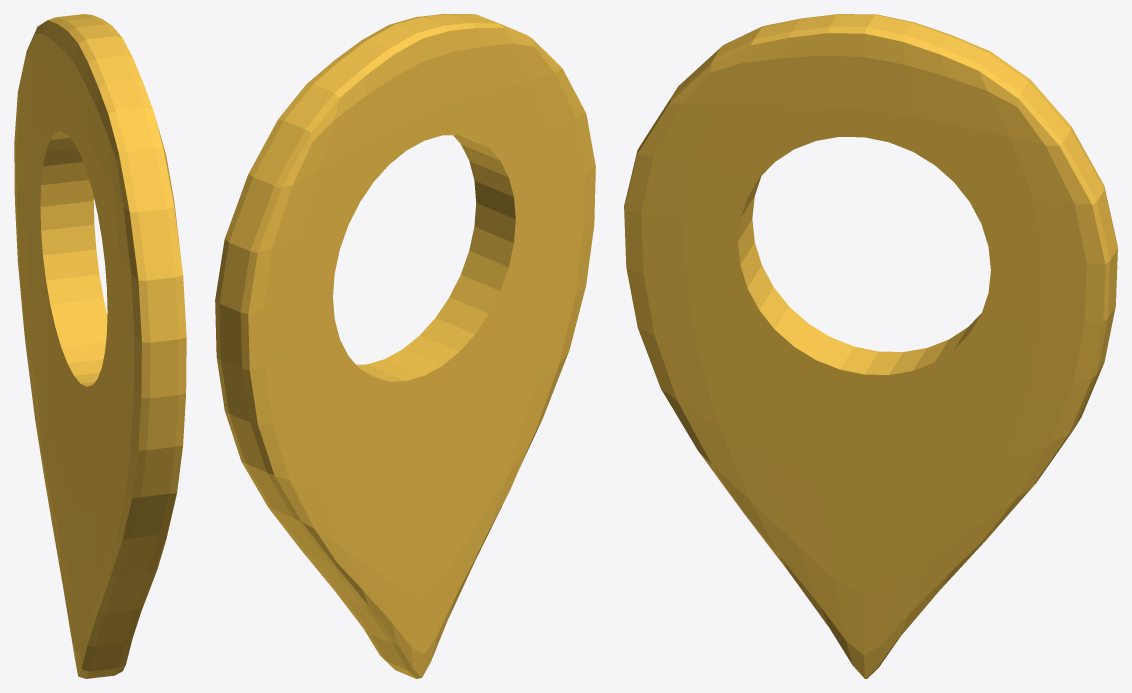
File: MarcadorSanTelmo-OLD.gltf
3 views of the same model, side by side, from view 1: azimuth 30°, elevation 25°; view 2: azimuth 150°, elevation 25°; view 3: azimuth 270°, elevation 25° (orthographic).
Visible parts, largest first — view 1: MarcadorSanTelmo; view 2: MarcadorSanTelmo; view 3: MarcadorSanTelmo.
Part boxes in pixels (<box>): MarcadorSanTelmo: <box>14,14,186,678</box>; MarcadorSanTelmo: <box>215,14,595,678</box>; MarcadorSanTelmo: <box>624,14,1117,678</box>.
Bounding box in the file's own units: 0.1712 × 0.7114 × 0.4884.
